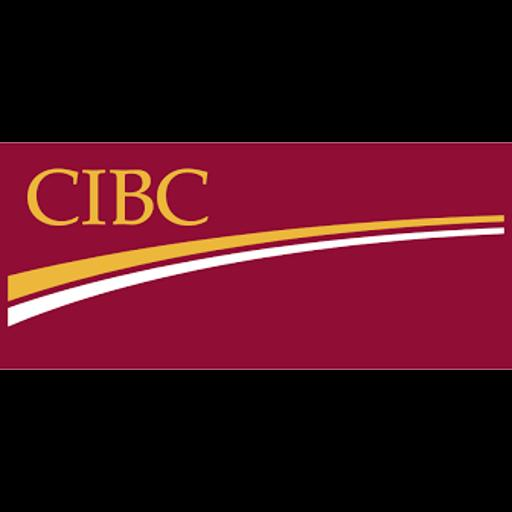Canadian Imperial Bank of Commerce: (0, 142, 512, 370)
